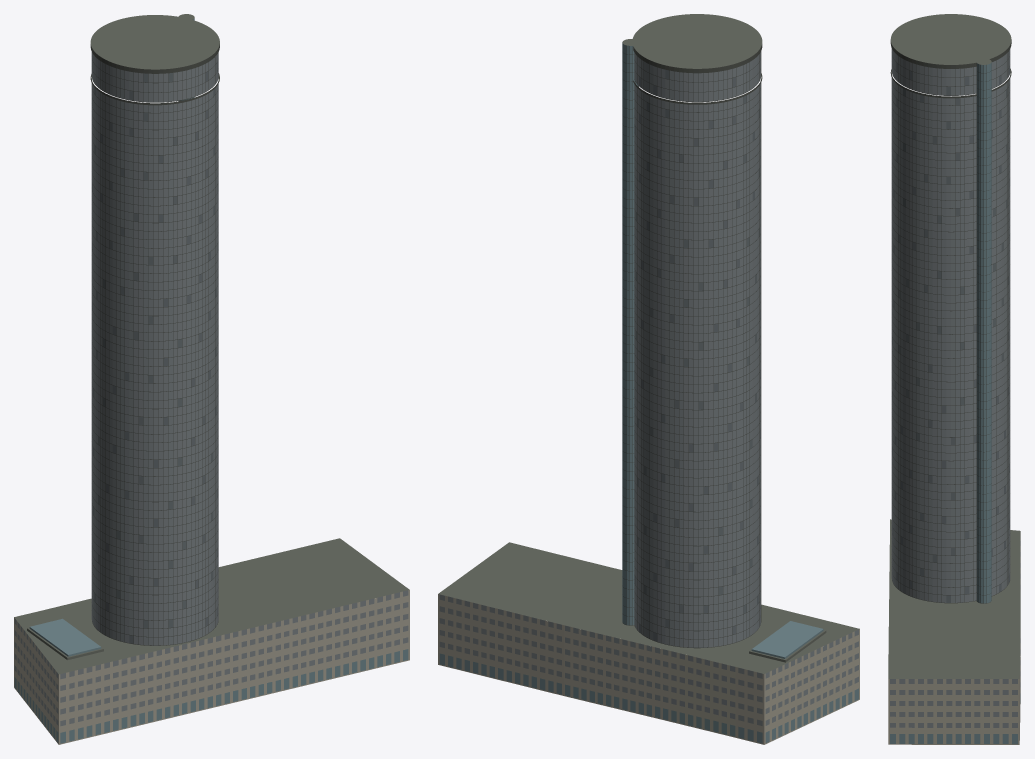
File: westin-peachtree-plaza-near.glb
3 renders of one model, left to right at view 1: azimuth 30°, elevation 25°; view 2: azimuth 150°, elevation 25°; view 3: azimuth 270°, elevation 25°, orthographic. The views are drawn at different scales.
Parts seen in each view (by area): view 1: westin-peachtree-plaza-0-glass, westin-peachtree-plaza-0-frame, westin-peachtree-plaza-0-stone, westin-peachtree-plaza-0-roof, westin-peachtree-plaza-0-glassShade, westin-peachtree-plaza-0-elevatorGlass, westin-peachtree-plaza-0-glow; view 2: westin-peachtree-plaza-0-glass, westin-peachtree-plaza-0-glassShade, westin-peachtree-plaza-0-frame, westin-peachtree-plaza-0-stone, westin-peachtree-plaza-0-roof, westin-peachtree-plaza-0-elevatorGlass, westin-peachtree-plaza-0-glow; view 3: westin-peachtree-plaza-0-glass, westin-peachtree-plaza-0-frame, westin-peachtree-plaza-0-roof, westin-peachtree-plaza-0-elevatorGlass, westin-peachtree-plaza-0-stone, westin-peachtree-plaza-0-glow, westin-peachtree-plaza-0-glassShade.
Part boxes in pixels (bbox=[...]): westin-peachtree-plaza-0-glass: bbox=[103, 52, 218, 645]; westin-peachtree-plaza-0-frame: bbox=[90, 44, 219, 645]; westin-peachtree-plaza-0-stone: bbox=[14, 590, 409, 744]; westin-peachtree-plaza-0-roof: bbox=[14, 14, 409, 674]; westin-peachtree-plaza-0-glassShade: bbox=[14, 52, 408, 726]; westin-peachtree-plaza-0-elevatorGlass: bbox=[14, 18, 408, 743]; westin-peachtree-plaza-0-glow: bbox=[91, 59, 218, 643]; westin-peachtree-plaza-0-glass: bbox=[634, 52, 760, 647]; westin-peachtree-plaza-0-glassShade: bbox=[439, 59, 858, 725]; westin-peachtree-plaza-0-frame: bbox=[623, 44, 762, 648]; westin-peachtree-plaza-0-stone: bbox=[438, 594, 859, 744]; westin-peachtree-plaza-0-roof: bbox=[438, 14, 859, 673]; westin-peachtree-plaza-0-elevatorGlass: bbox=[439, 42, 858, 743]; westin-peachtree-plaza-0-glow: bbox=[634, 69, 760, 641]; westin-peachtree-plaza-0-glass: bbox=[891, 48, 1010, 602]; westin-peachtree-plaza-0-frame: bbox=[890, 40, 1011, 603]; westin-peachtree-plaza-0-roof: bbox=[888, 14, 1020, 678]; westin-peachtree-plaza-0-elevatorGlass: bbox=[890, 62, 1020, 744]; westin-peachtree-plaza-0-stone: bbox=[888, 546, 1020, 744]; westin-peachtree-plaza-0-glow: bbox=[891, 62, 1010, 602]; westin-peachtree-plaza-0-glassShade: bbox=[890, 541, 1020, 727].
Bounding box in the file's own units: 125 × 220 × 43.8.
